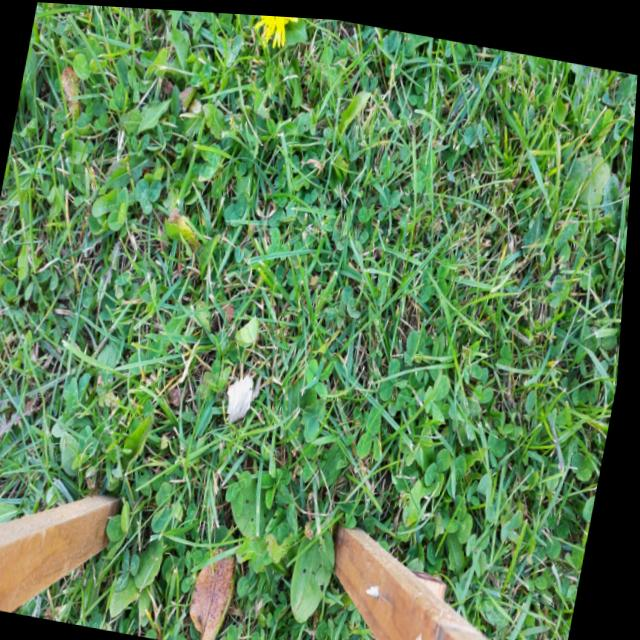flower: (243, 11, 299, 49)
